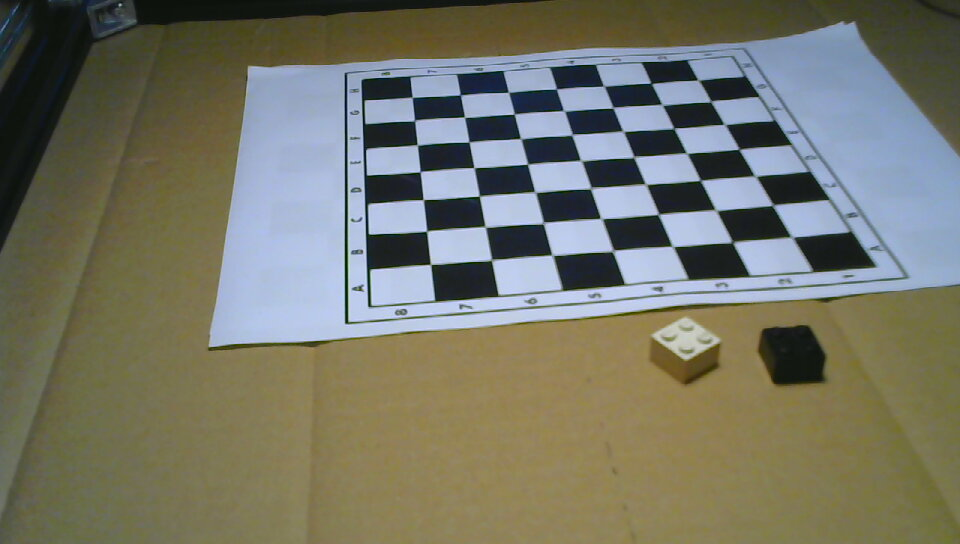bp: (758, 324, 827, 384)
wp: (651, 317, 720, 384)
